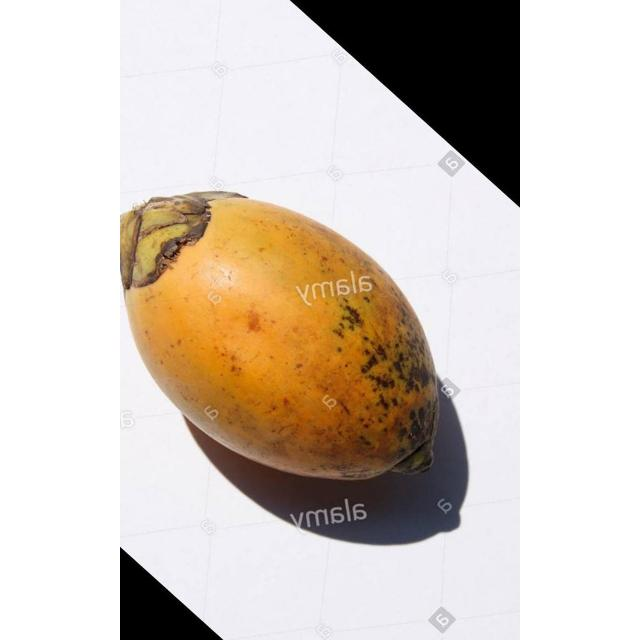good: (120, 193, 440, 482)
